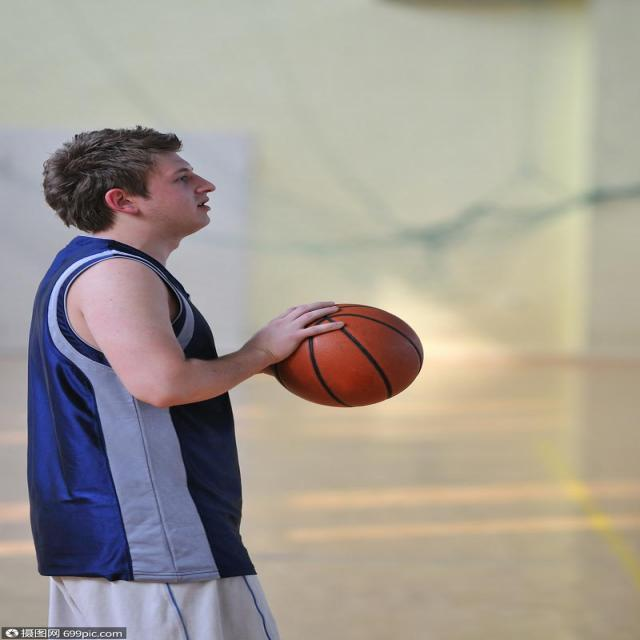rim: (274, 303, 429, 406)
